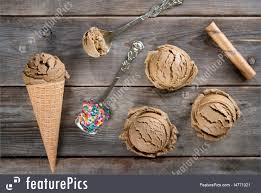ice-cream: (121, 107, 177, 157), (191, 89, 239, 142), (144, 44, 197, 91), (23, 53, 66, 83), (84, 27, 109, 56)
